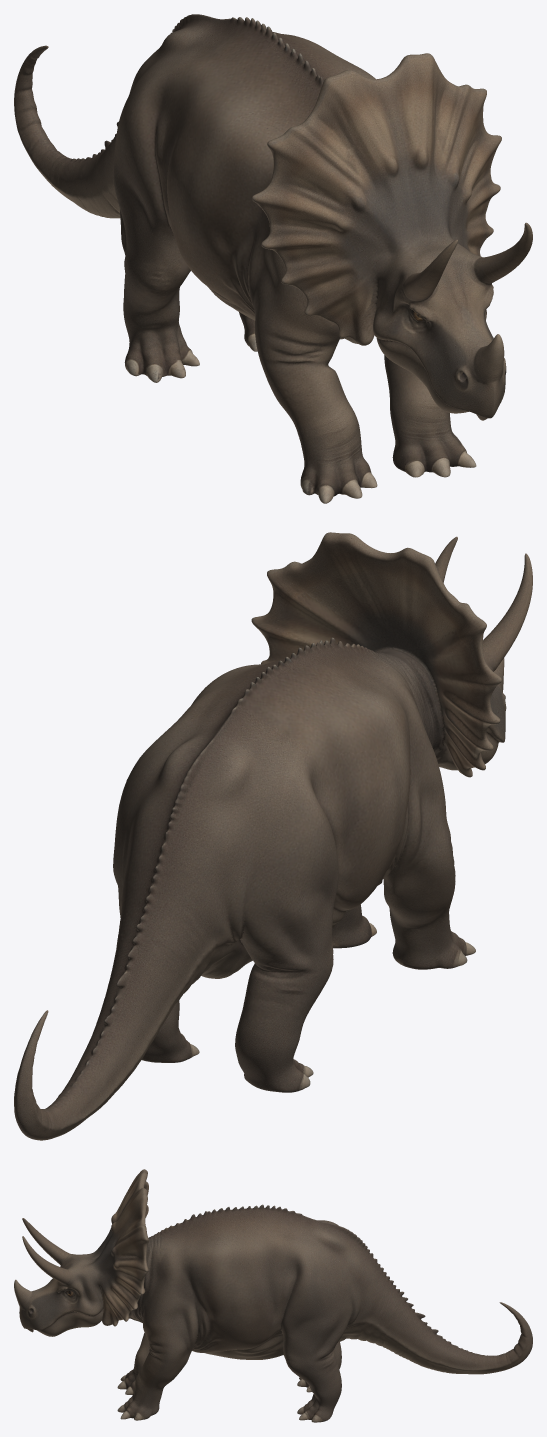
Rendered from Triceratops.glb.
The picture shows the model from 3 angles, top to bottom: view 1: azimuth 30°, elevation 25°; view 2: azimuth 150°, elevation 25°; view 3: azimuth 270°, elevation 25°; orthographic projection. The views are drawn at different scales.
Size of the model in its own units: 0.5668 by 0.8849 by 1.9.
Materials: 1 (1 with a texture image).
